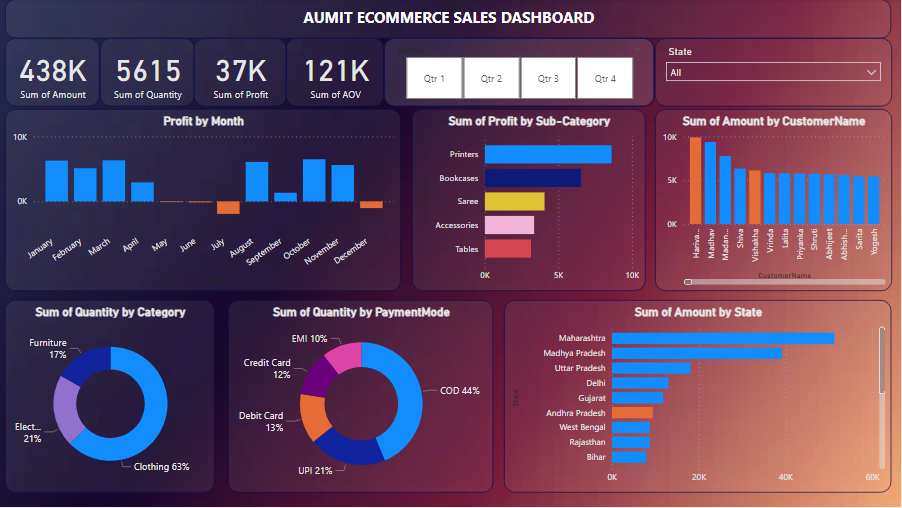

The dashboard page shown, as its layout file describes it:
{"tool":"powerbi","page":{"name":"Page 1","canvas":[1280,720],"ordinal":0},"visuals":[{"type":"textbox","box":[10.2,0,1256.3,55.9],"z":0},{"type":"columnChart","title":"Profit by Month","fields":{"Y":["Details.Profit"],"Category":["Orders.Order Date.Variation.Date Hierarchy.Month"]},"box":[10.2,156,561.2,257.7],"z":1000},{"type":"barChart","fields":{"Category":["Details.Sub-Category"],"Y":["Details.Profit"]},"box":[586.6,156,330.6,257.7],"z":2000},{"type":"donutChart","fields":{"Category":["Details.Category"],"Y":["Details.Quantity"]},"box":[10.2,427.2,296.7,273],"z":3000},{"type":"donutChart","fields":{"Y":["Details.Quantity"],"Category":["Details.PaymentMode"]},"box":[325.5,427.2,376.4,273],"z":4000},{"type":"card","fields":{"Values":["Details.Amount"]},"box":[10.2,55.9,133.9,96.6],"z":5000},{"type":"card","fields":{"Values":["Details.Quantity"]},"box":[144.1,55.9,133.9,96.6],"z":6000},{"type":"card","fields":{"Values":["Details.Profit"]},"box":[278,55.9,130.5,96.6],"z":7000},{"type":"card","fields":{"Values":["Details.AOV"]},"box":[408.6,55.9,139,96.6],"z":8000},{"type":"barChart","fields":{"Category":["Orders.State"],"Y":["Details.Amount"]},"box":[717.1,427.2,549.3,273],"z":9000},{"type":"columnChart","fields":{"Category":["Orders.CustomerName"],"Y":["Details.Amount"]},"box":[930.8,156,335.7,257.7],"z":10000},{"type":"slicer","fields":{"Values":["Orders.Order Date.Variation.Date Hierarchy.Quarter"]},"box":[547.6,55.9,383.2,96.6],"z":10001},{"type":"slicer","fields":{"Values":["Orders.Order Date.Variation.Date Hierarchy.Quarter"]},"box":[547.6,55.9,383.2,96.6],"z":10002},{"type":"slicer","fields":{"Values":["Orders.State"]},"box":[930.8,55.9,335.7,96.6],"z":10003}]}

Visuals, with their boxes in screenshot pixels (x1, y1, x2, y2), scaled from the page's 1280x720 canvas onto the 902x508 screenshot:
textbox: (7, 0, 892, 39)
"Profit by Month" columnChart: (7, 110, 403, 292)
barChart - Details.Sub-Category x Details.Profit: (413, 110, 646, 292)
donutChart - Details.Category x Details.Quantity: (7, 301, 216, 494)
donutChart - Details.Quantity x Details.PaymentMode: (229, 301, 495, 494)
card - Details.Amount: (7, 39, 102, 108)
card - Details.Quantity: (102, 39, 196, 108)
card - Details.Profit: (196, 39, 288, 108)
card - Details.AOV: (288, 39, 386, 108)
barChart - Orders.State x Details.Amount: (505, 301, 892, 494)
columnChart - Orders.CustomerName x Details.Amount: (656, 110, 892, 292)
slicer - Orders.Order Date.Variation.Date Hierarchy.Quarter: (386, 39, 656, 108)
slicer - Orders.Order Date.Variation.Date Hierarchy.Quarter: (386, 39, 656, 108)
slicer - Orders.State: (656, 39, 892, 108)
